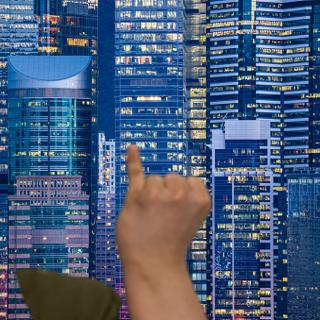FINE: (109, 142, 215, 267)
